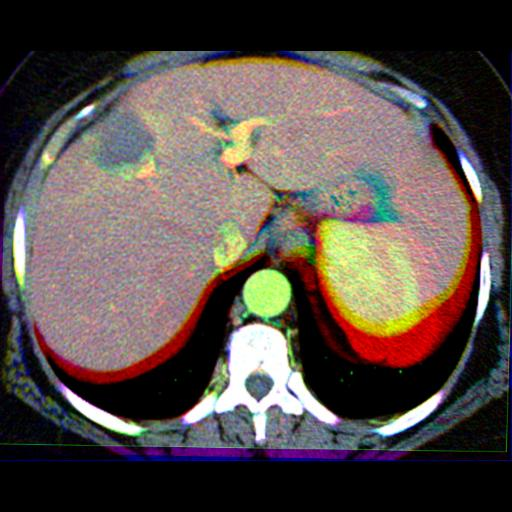Tumor: (91, 108, 155, 178)
